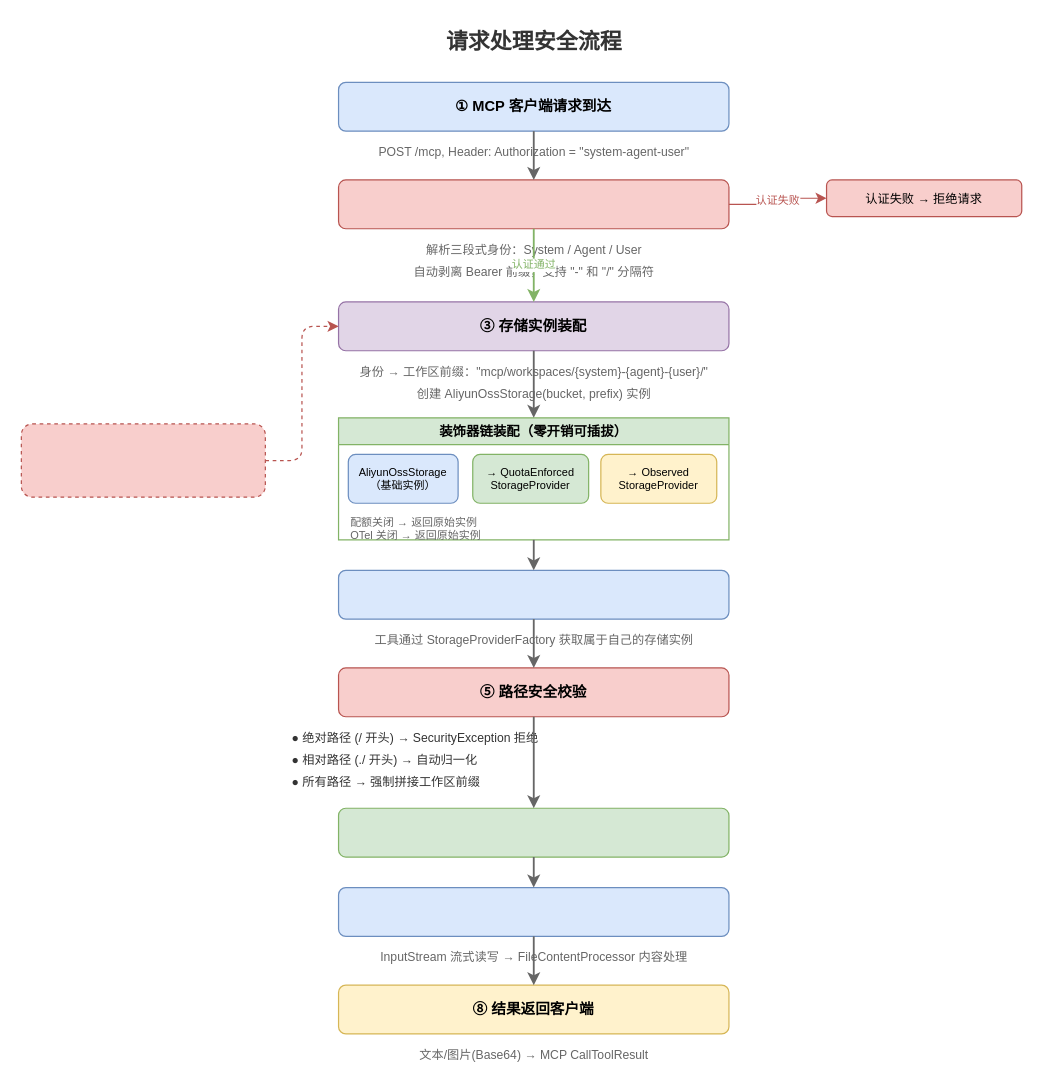
This 1043x1083 diagram has some shape labels left out. The shapes that lost their labels are listed below. From the top down, each one's centre as x and y in pixels, then its label:
At point 533,204: "② 身份提取与校验".
At point 142,460: "五层防线 身份认证 → 工作区隔离 → 路径安全 → 快照审计 → 配额管控".
At point 533,594: "④ 工具路由与执行".
At point 533,832: "⑥ 前置快照（仅 Write/Edit/Trash）".
At point 533,911: "⑦ OSS 操作执行".
